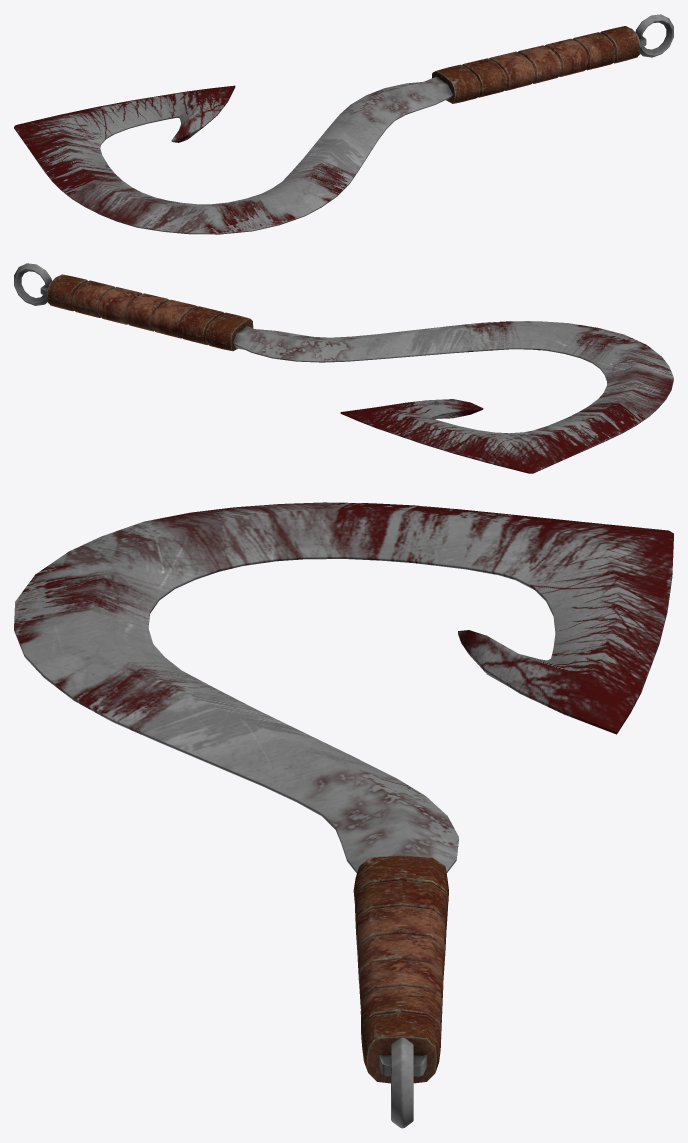
Rendered from meat_hook_1k.glb.
3 renders of one model, top to bottom at view 1: azimuth 30°, elevation 25°; view 2: azimuth 150°, elevation 25°; view 3: azimuth 270°, elevation 25°, orthographic. The views are drawn at different scales.
Parts seen in each view (by area): view 1: Hook_0; view 2: Hook_0; view 3: Hook_0.
Boxes of the visible parts, box(x1,y1,x2,y2) form: Hook_0: box(14, 14, 673, 234); Hook_0: box(14, 263, 673, 473); Hook_0: box(14, 502, 673, 1128).
Size of the model in its own units: 6.27 by 0.4043 by 2.92.
1 material, 1 textured.
